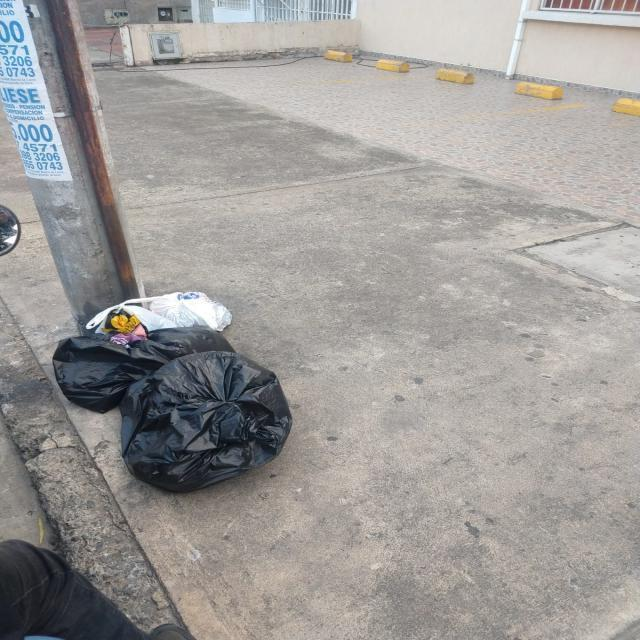Trashbag: (127, 355, 291, 494), (44, 325, 172, 416)
